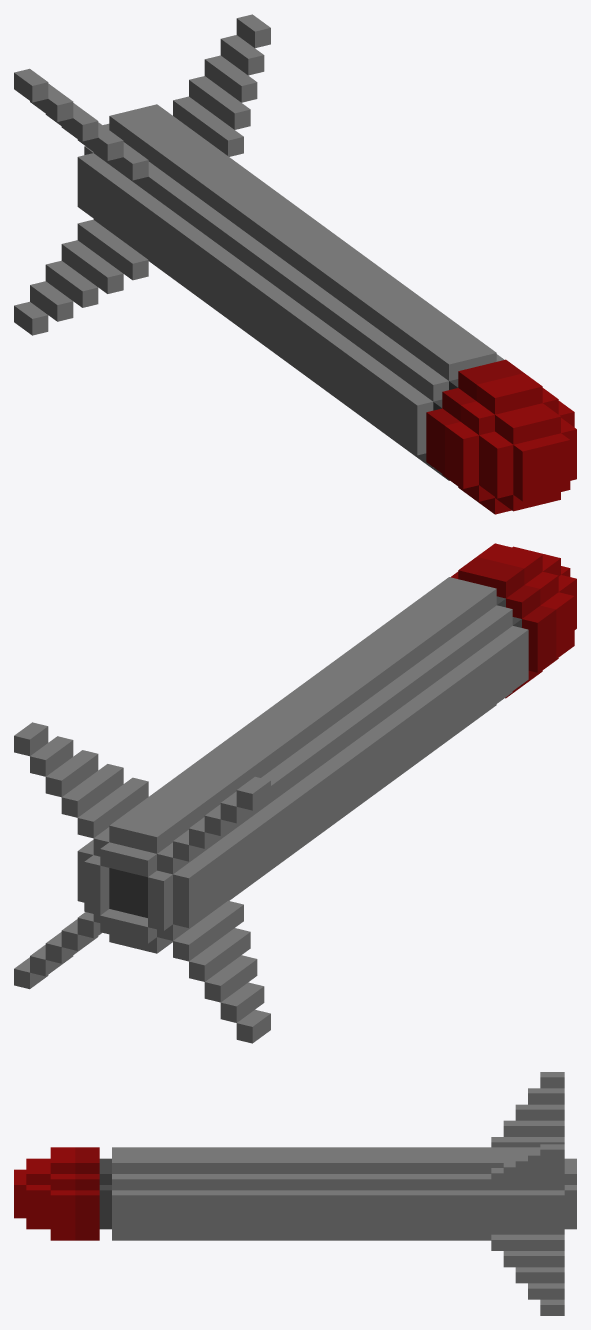
File: tir02.obj
The picture shows the model from 3 angles, top to bottom: view 1: azimuth 30°, elevation 25°; view 2: azimuth 150°, elevation 25°; view 3: azimuth 270°, elevation 25°; orthographic projection. The views are drawn at different scales.
Bounding box in the file's own units: 1.5 × 1.5 × 4.6.
1 material, 1 textured.
